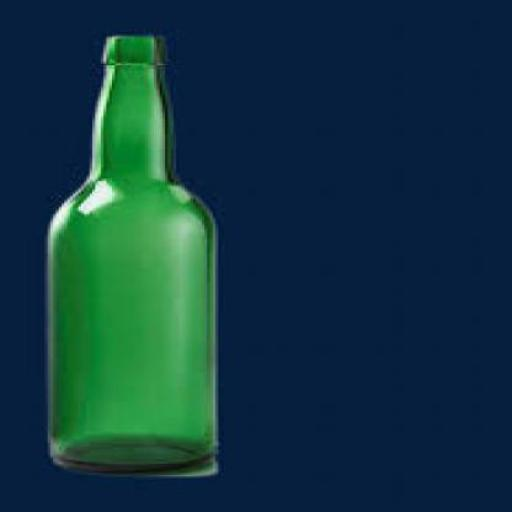glass: (42, 34, 218, 474)
